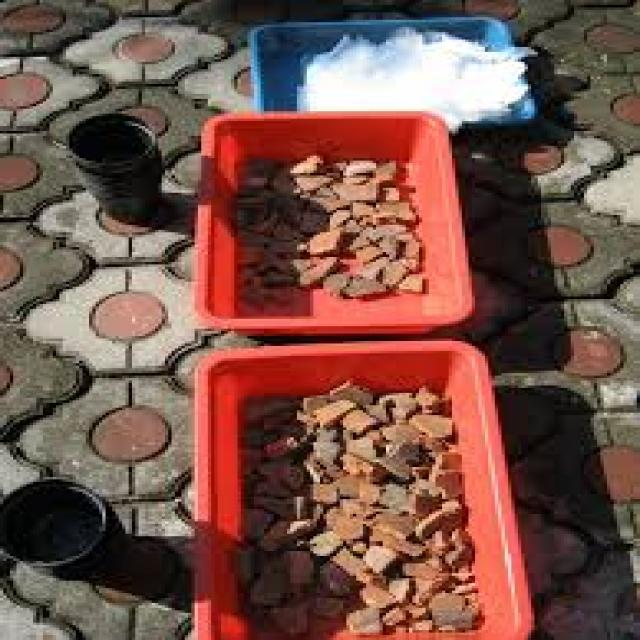Pecahan Agregat: (231, 372, 526, 634), (260, 146, 437, 294)
